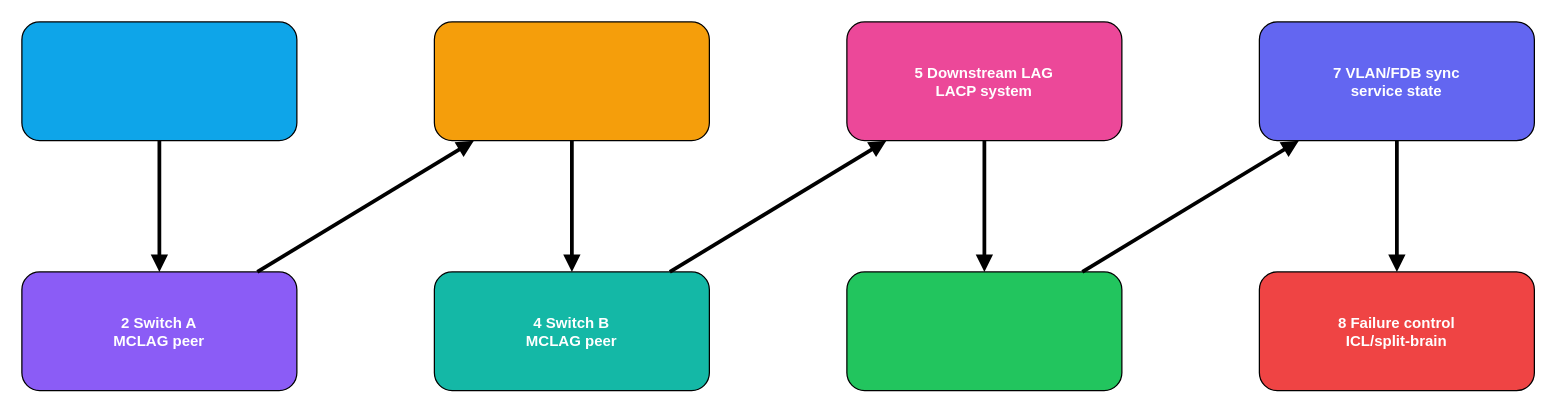
Image size: 1556x413. Some labels were removed from this diagram. The centre of each missing label's shape, as x and y in pixels:
1 FortiGate FortiLink control: point 159,81
3 ICL sync + data: point 571,81
6 Server/access dual-homed: point 984,331
